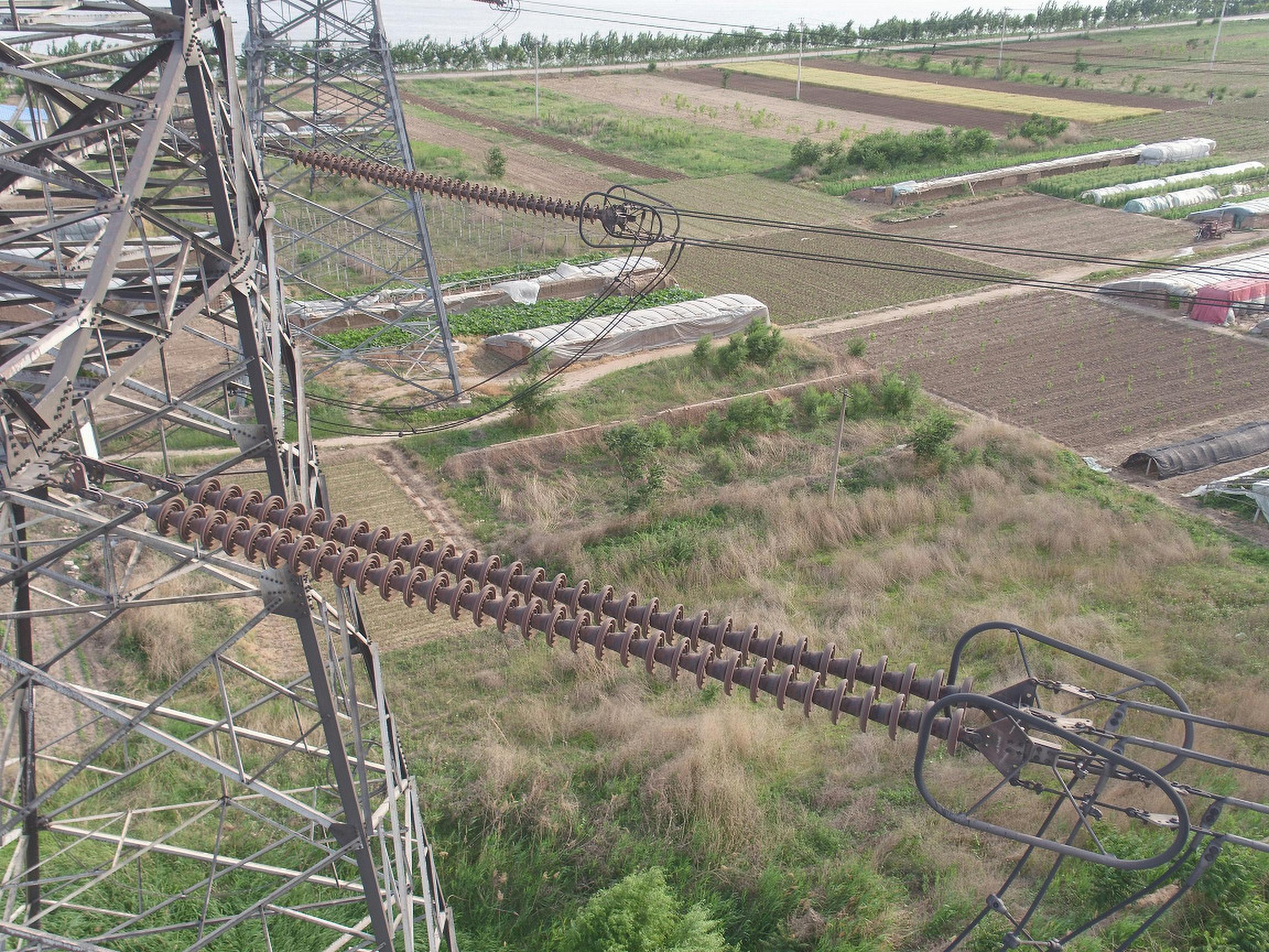insulator: (151, 473, 978, 761), (291, 144, 601, 228)
